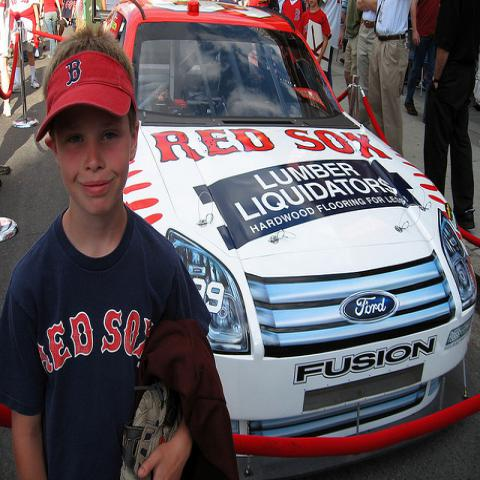car: (115, 1, 480, 467)
